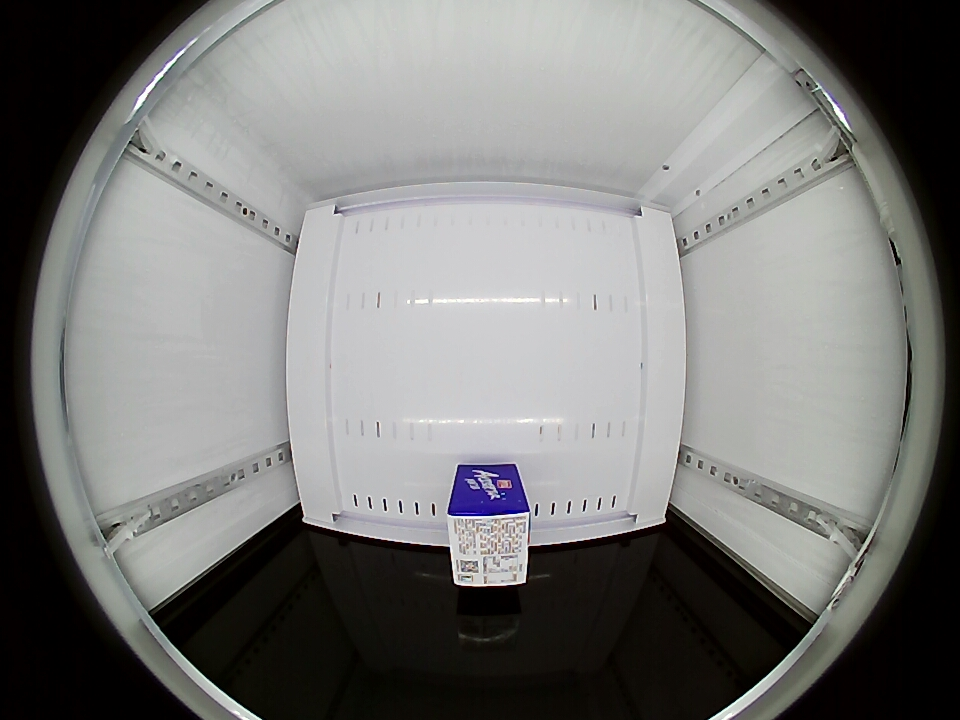meiniye: (447, 491, 532, 587)
